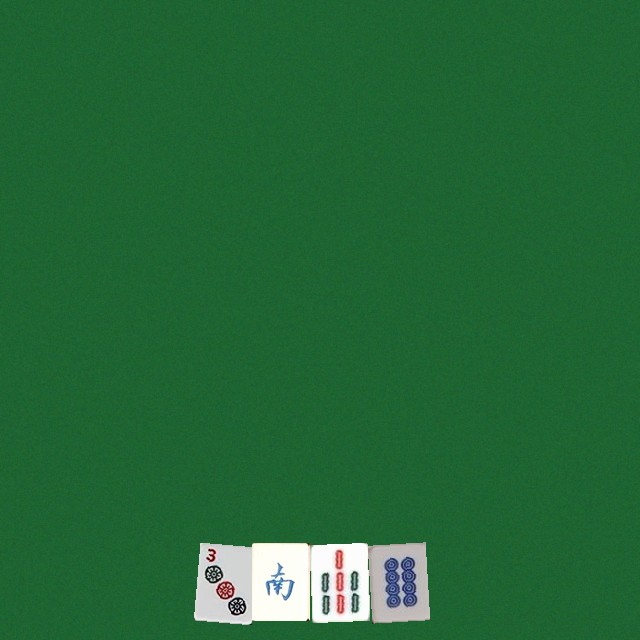tile: (193, 542, 251, 620), (251, 542, 309, 620), (309, 542, 367, 620), (367, 542, 425, 620)
